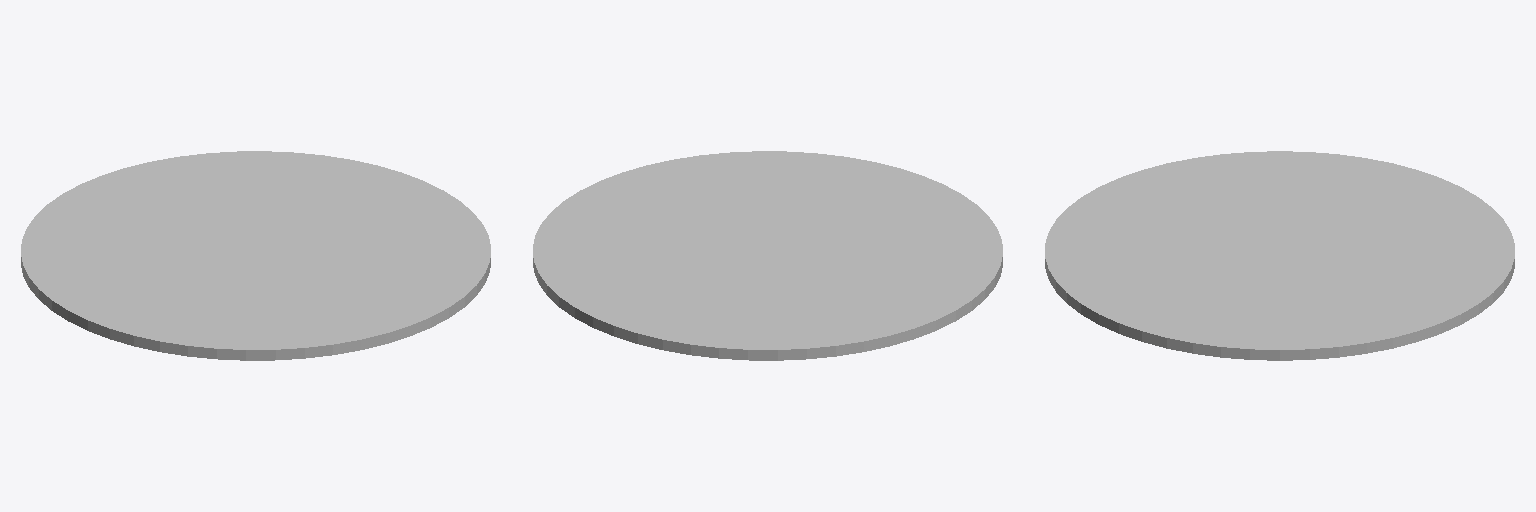
Rendered from Disk.obj.
3 renders of one model, left to right at view 1: azimuth 30°, elevation 25°; view 2: azimuth 150°, elevation 25°; view 3: azimuth 270°, elevation 25°, orthographic.
Visible parts, largest first — view 1: Cylinder001; view 2: Cylinder001; view 3: Cylinder001.
Boxes of the visible parts, box(x1,y1,x2,y2) form: Cylinder001: box(21, 151, 490, 360); Cylinder001: box(533, 151, 1002, 360); Cylinder001: box(1045, 151, 1514, 360).
Bounding box in the file's own units: 80 × 2 × 79.84.